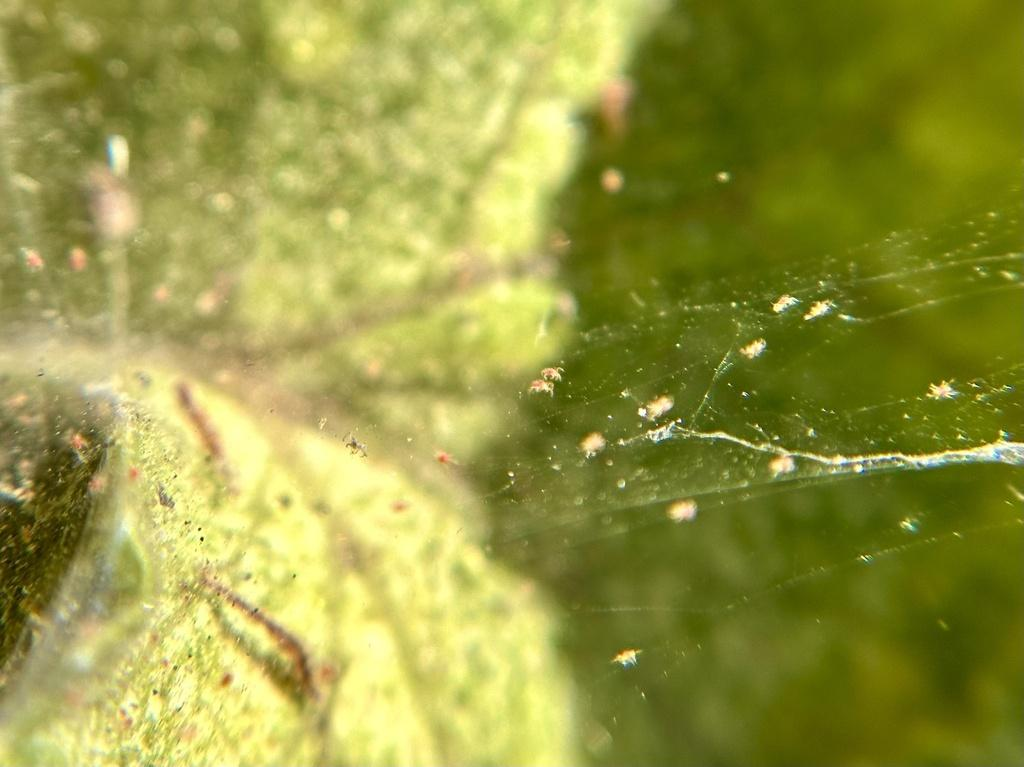tiny_pests: (517, 355, 568, 405), (426, 444, 463, 476)
